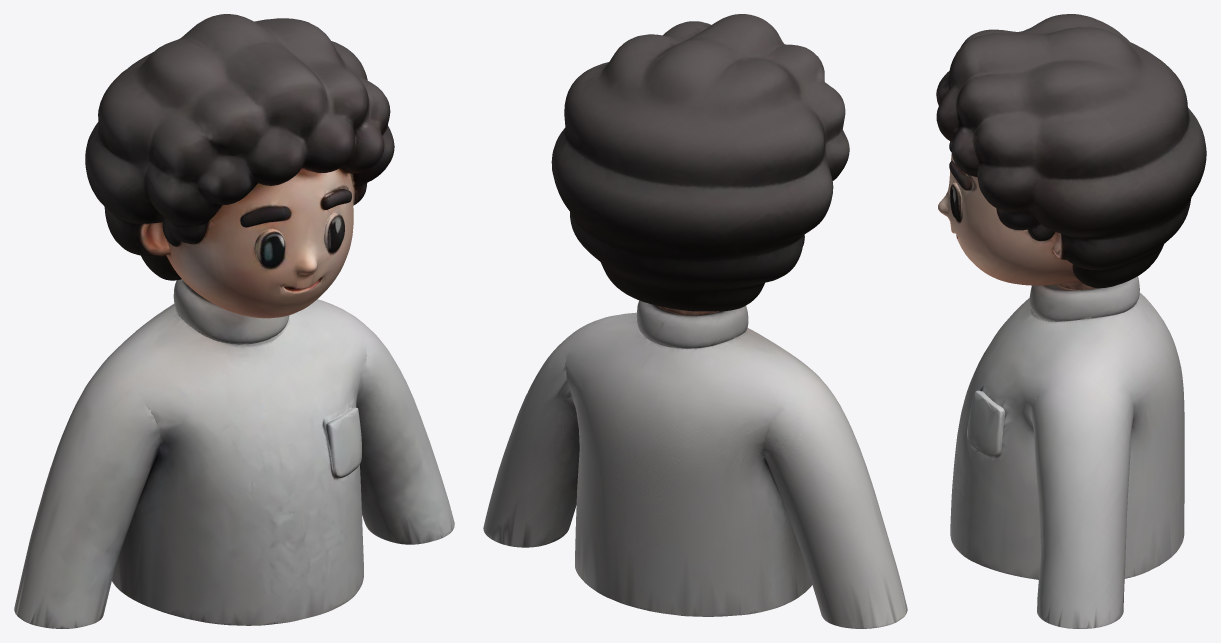
File: mascot.glb
3 views of the same model, side by side, from view 1: azimuth 30°, elevation 25°; view 2: azimuth 150°, elevation 25°; view 3: azimuth 270°, elevation 25° (orthographic). The views are drawn at different scales.
Parts seen in each view (by area): view 1: model; view 2: model; view 3: model.
Part boxes in pixels (x1,y1,x2,y2): model: [14, 14, 454, 628]; model: [483, 14, 907, 628]; model: [936, 14, 1206, 628].
Bounding box in the file's own units: 1.41 × 1.72 × 0.8365.
Materials: 1 (1 with a texture image).
